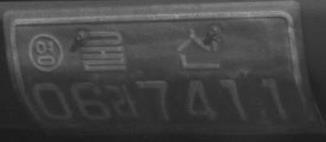0: (31, 81, 72, 121)
1: (255, 77, 289, 119), (217, 78, 250, 121)
4: (183, 79, 216, 121)
6: (72, 79, 110, 121)
7: (139, 79, 172, 121)
라: (110, 82, 138, 120)
영: (27, 33, 64, 73)
울산_D: (77, 26, 224, 72)
